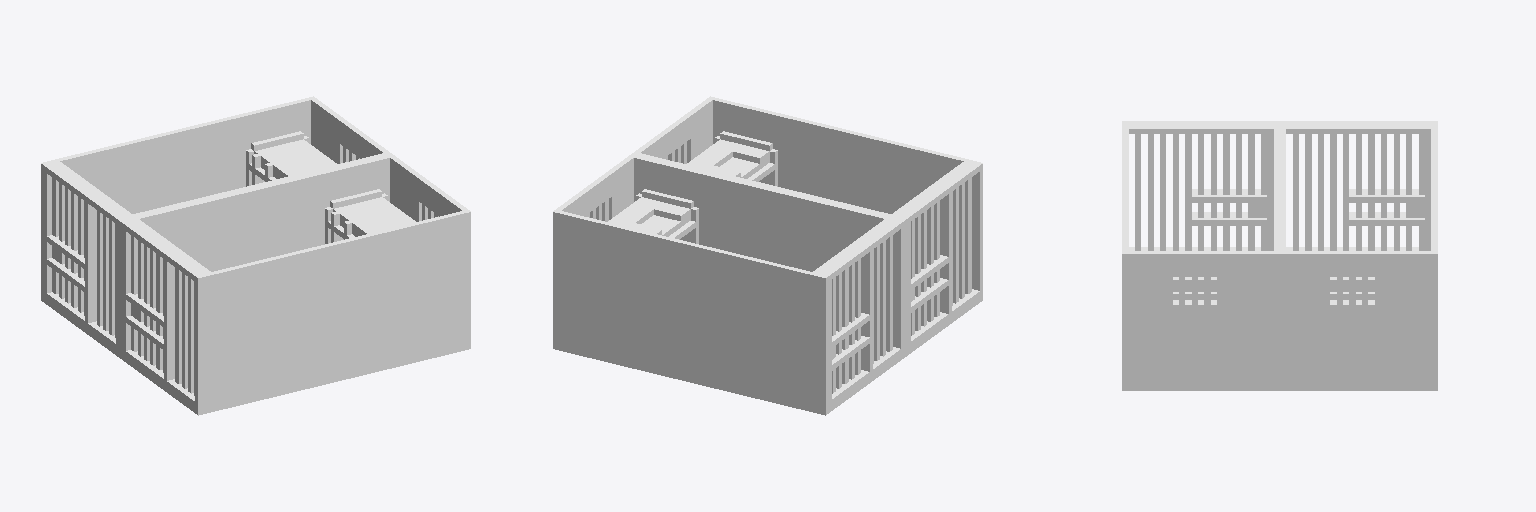
The model's file is Cell_Block_Menu_Main.obj.
3 views of the same model, side by side, from view 1: azimuth 30°, elevation 25°; view 2: azimuth 150°, elevation 25°; view 3: azimuth 270°, elevation 25° (orthographic).
Bounding box in the file's own units: 50 × 24 × 50.